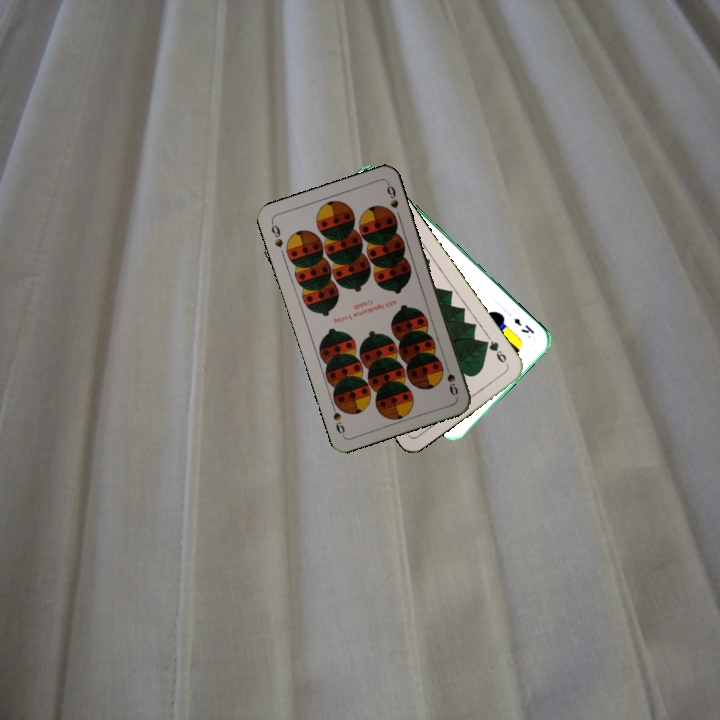EK: (510, 314, 537, 336)
G9: (479, 336, 509, 366)
S9: (441, 359, 461, 398), (267, 218, 286, 250)
